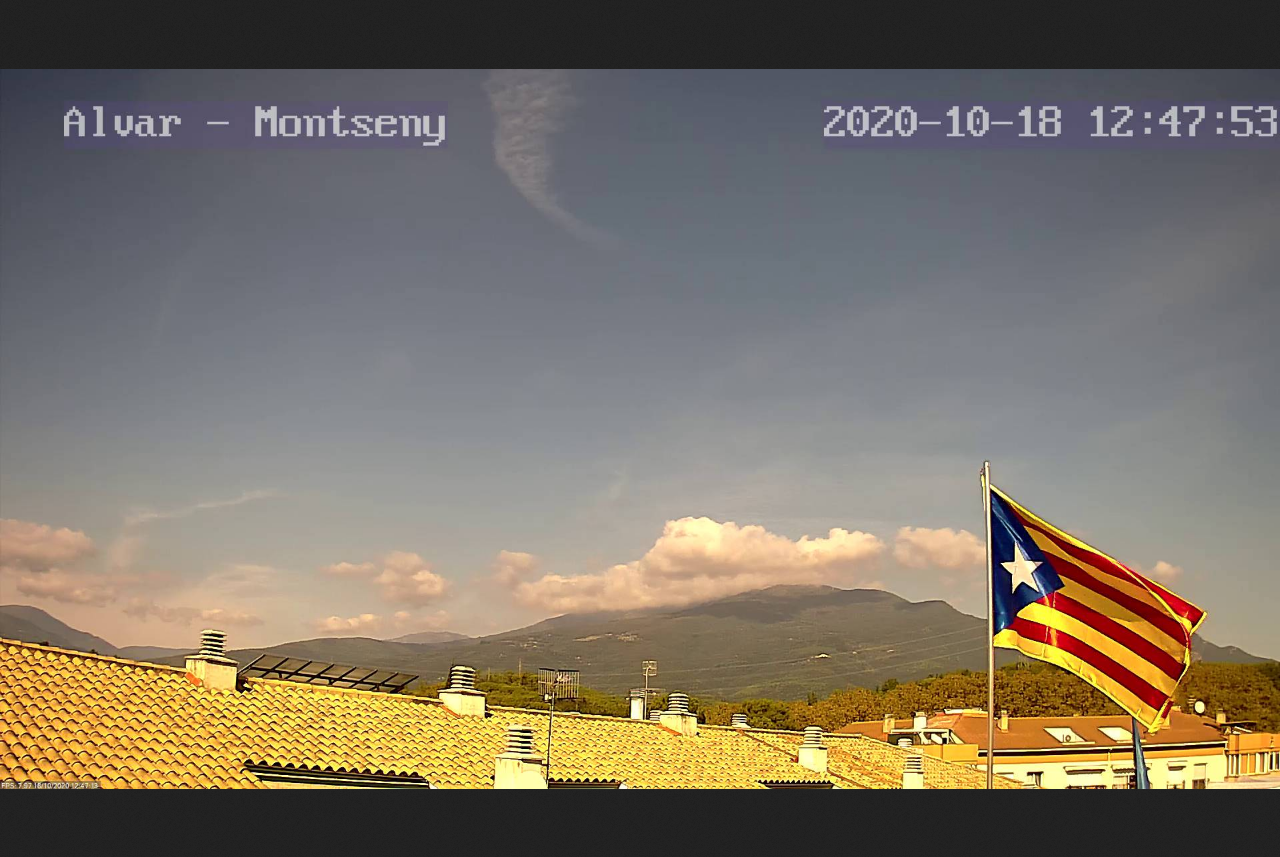maybe: (981, 480, 1213, 733)
